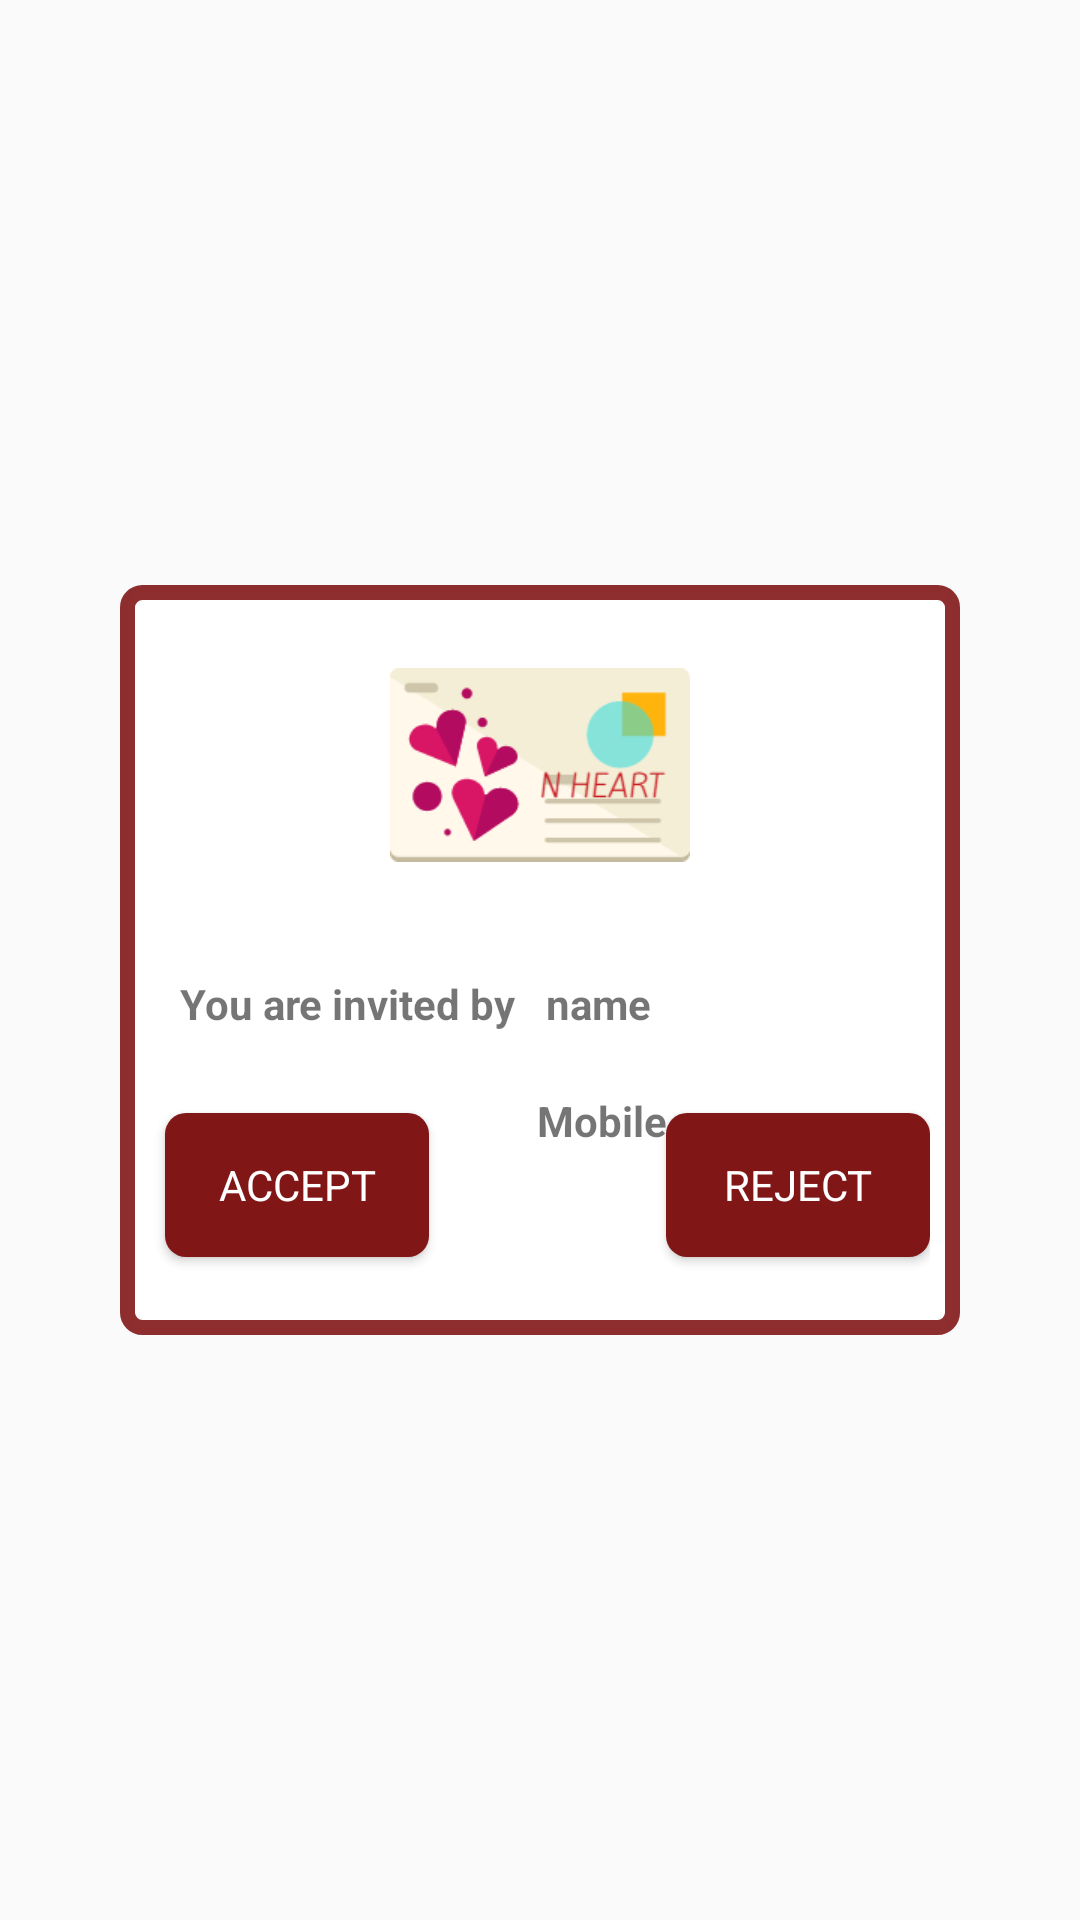

Where icons sit on this 1080px×1920px app screen, as box=[x1, y1, x2, y2]:
invitationone: box=[390, 668, 690, 862]
